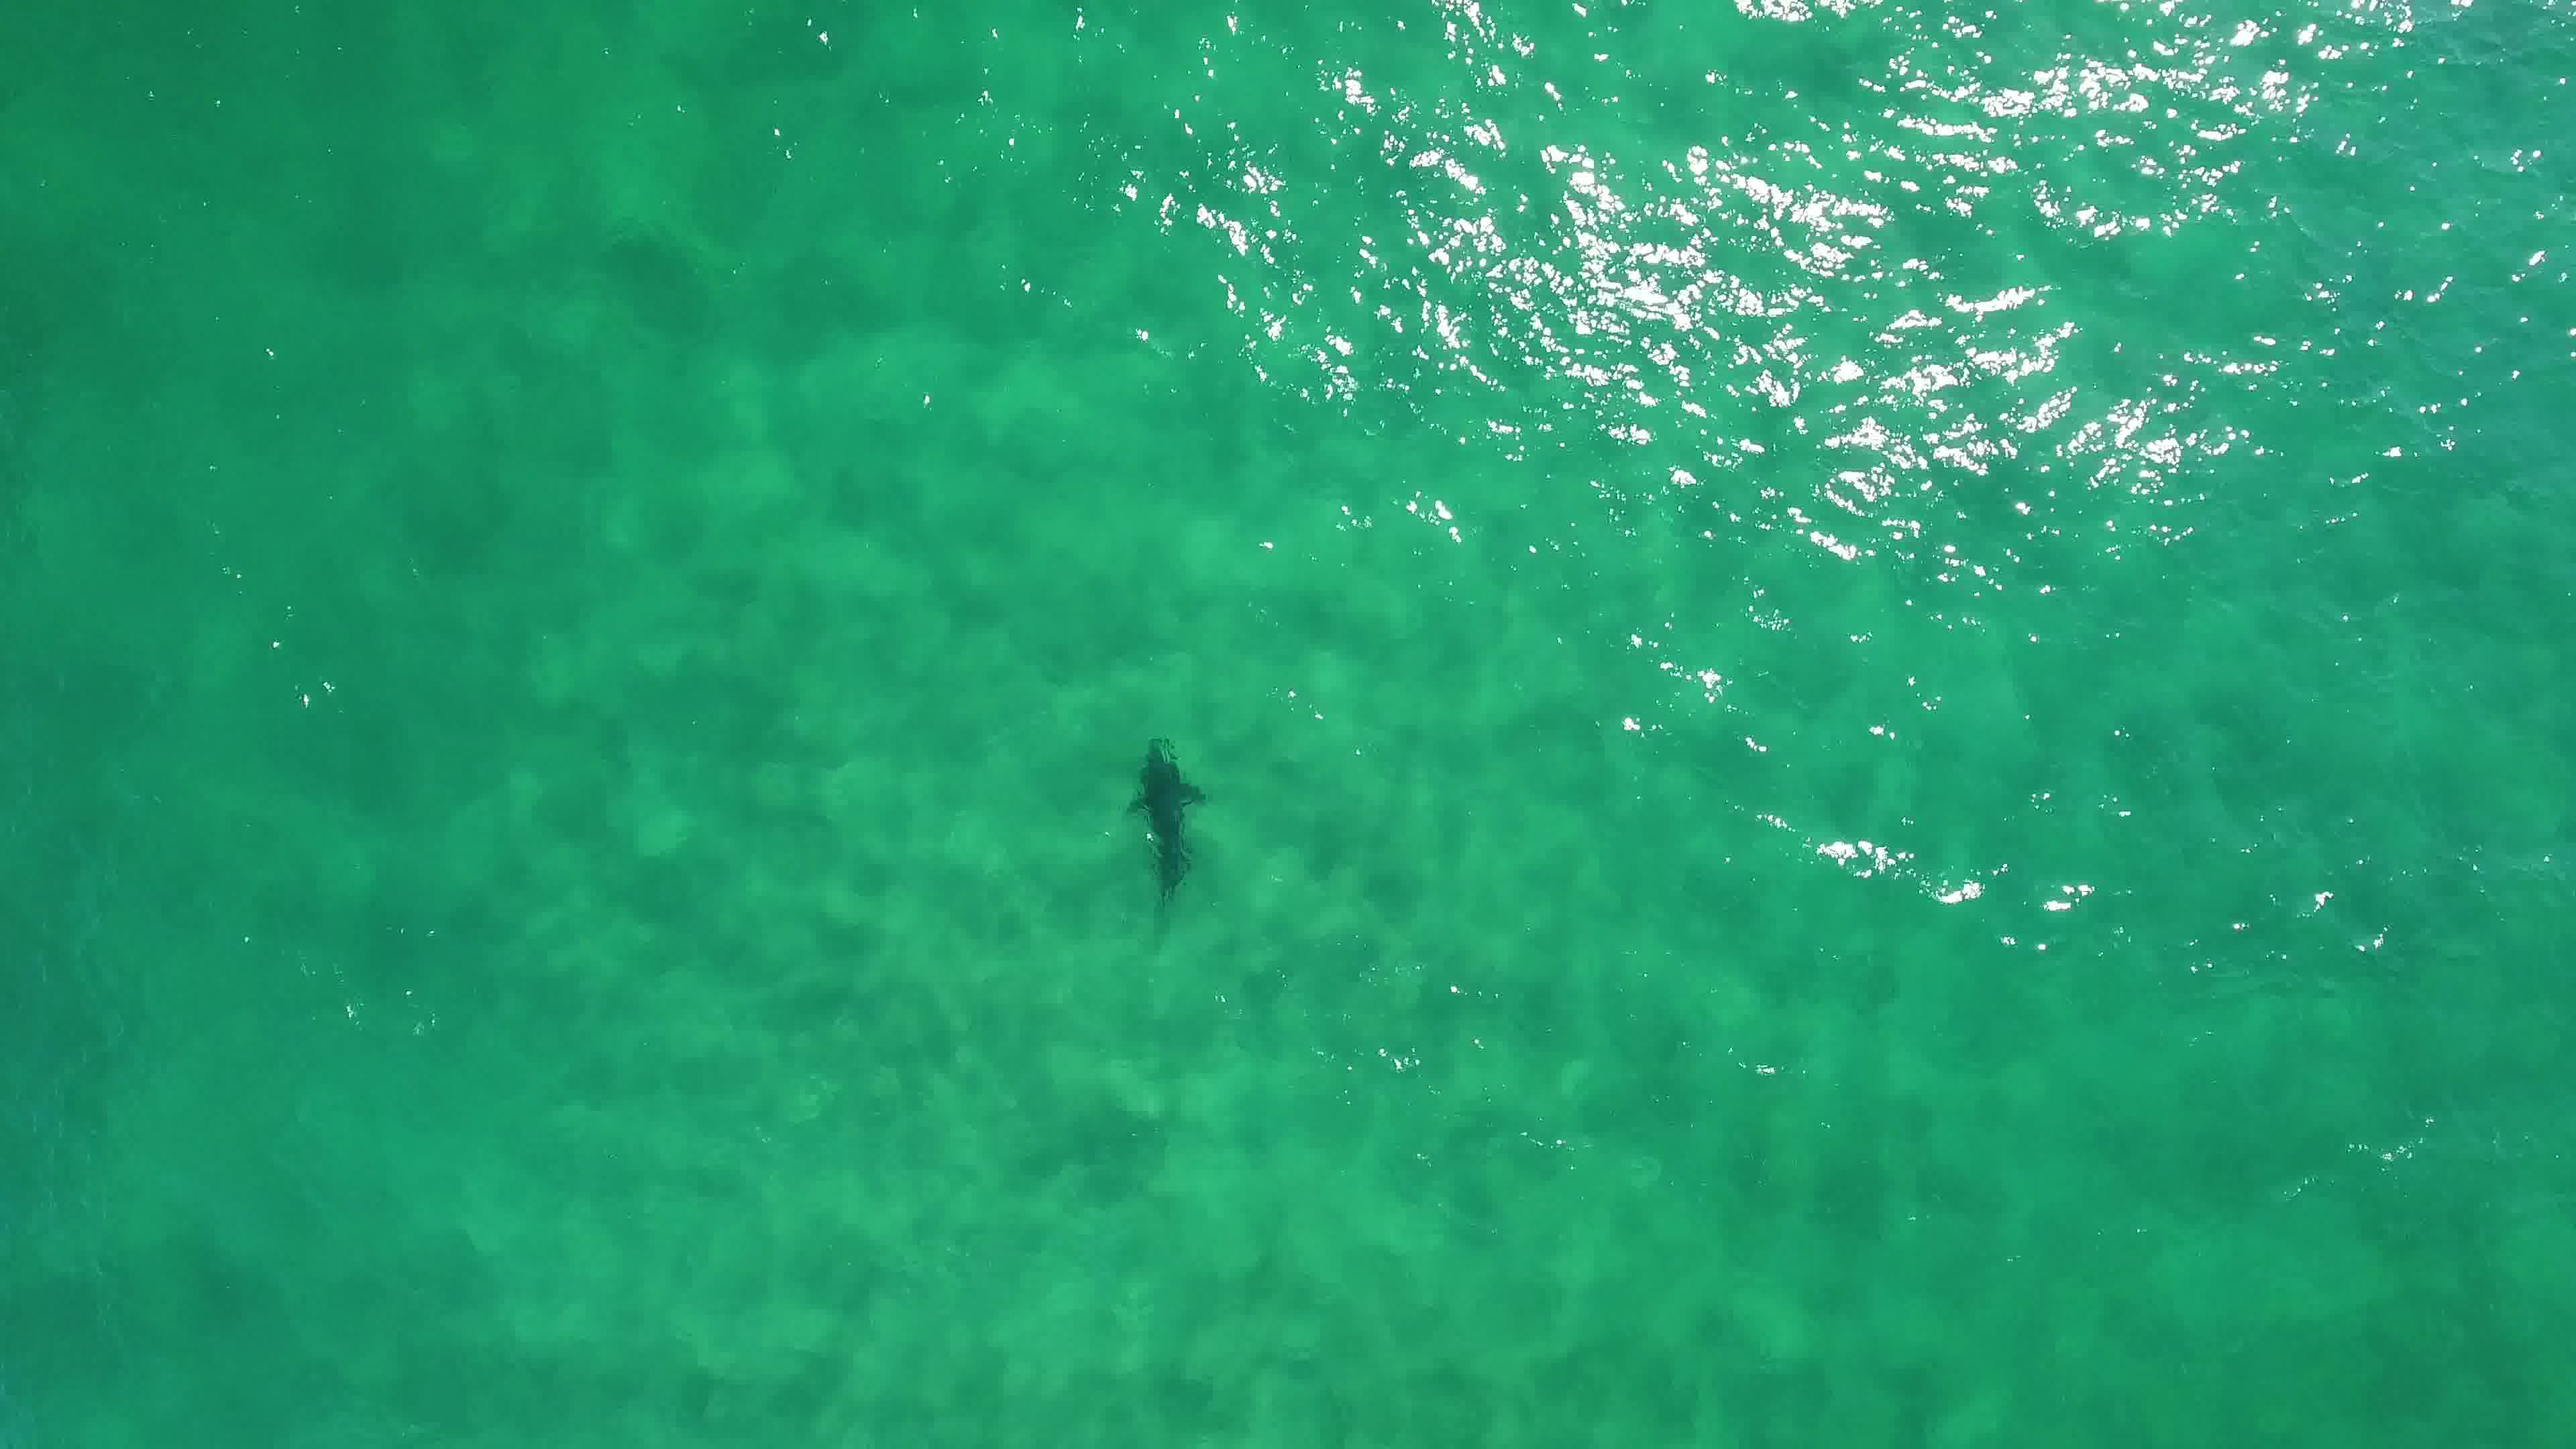shark: (1116, 731, 1214, 918)
